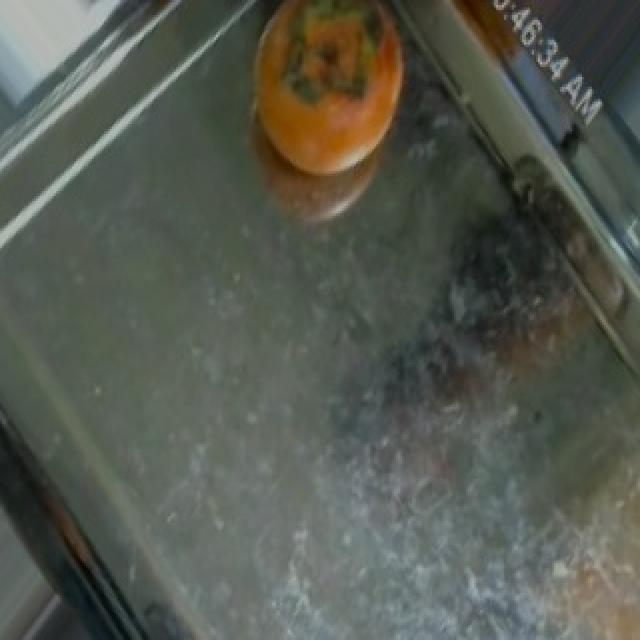Fruit: (228, 0, 430, 193)
